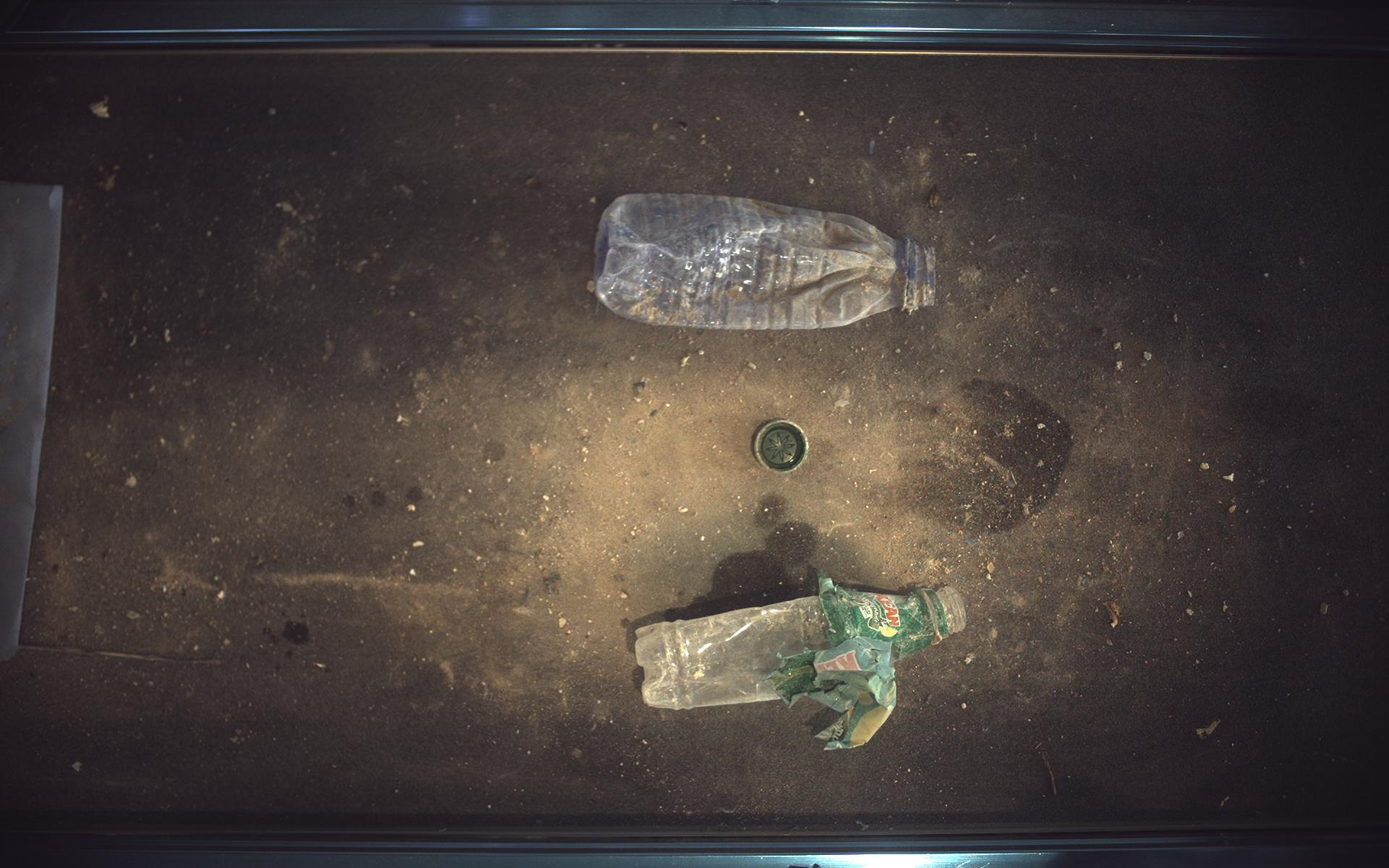general_w: (637, 574, 969, 751), (755, 420, 810, 473)
